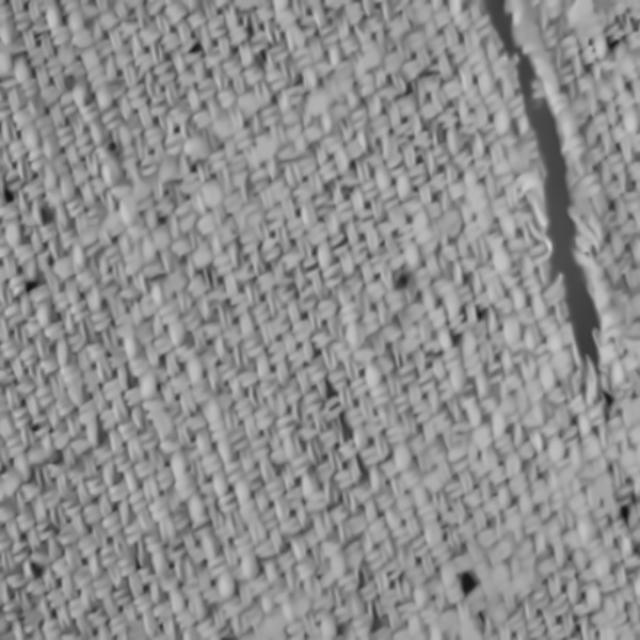other: (428, 539, 496, 622), (368, 239, 438, 319)
